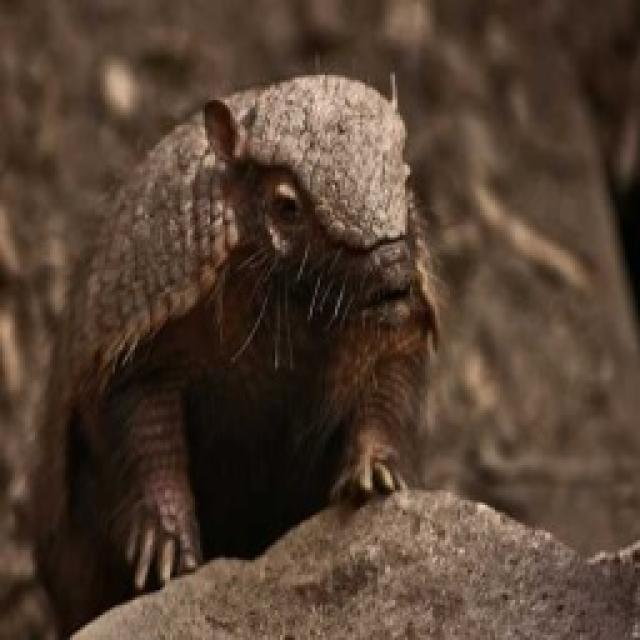not_pig: (28, 68, 442, 620)
